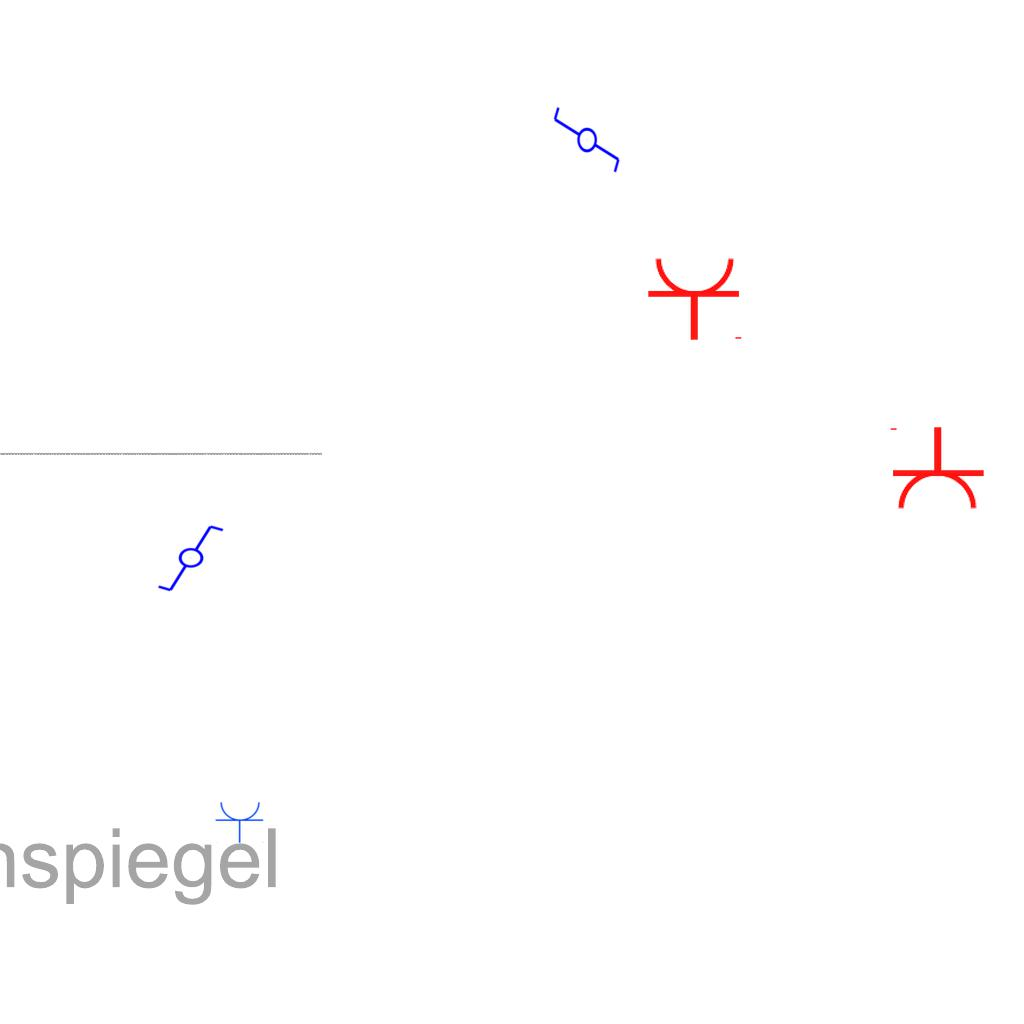Schukosteckdose_einfach: (886, 425, 986, 512), (646, 255, 746, 342), (215, 800, 265, 843)
Wechselschalter: (550, 105, 622, 183), (156, 523, 234, 595)
